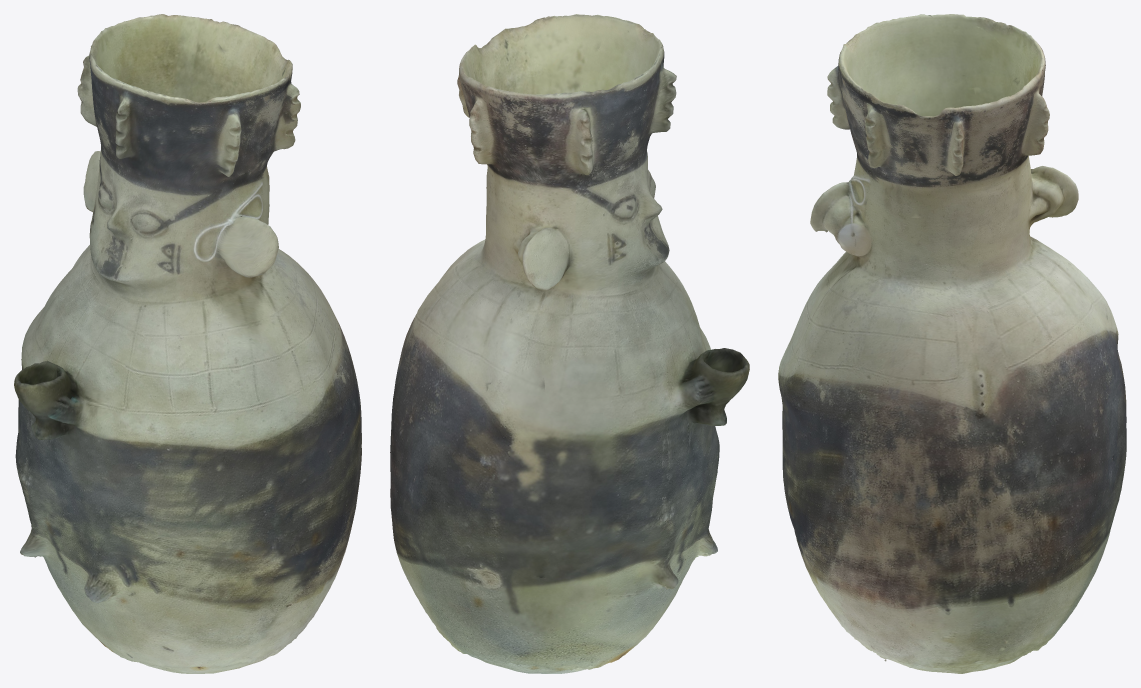
File: jarron3.glb
3 views of the same model, side by side, from view 1: azimuth 30°, elevation 25°; view 2: azimuth 150°, elevation 25°; view 3: azimuth 270°, elevation 25° (orthographic). The views are drawn at different scales.
Parts seen in each view (by area): view 1: Object_2; view 2: Object_2; view 3: Object_2.
Part boxes in pixels (box(x1,y1,x2,y2)): Object_2: box(14, 14, 361, 673); Object_2: box(390, 14, 749, 673); Object_2: box(778, 14, 1126, 673).
Size of the model in its own units: 2.14 by 3.86 by 2.03.
Materials: 1 (1 with a texture image).
